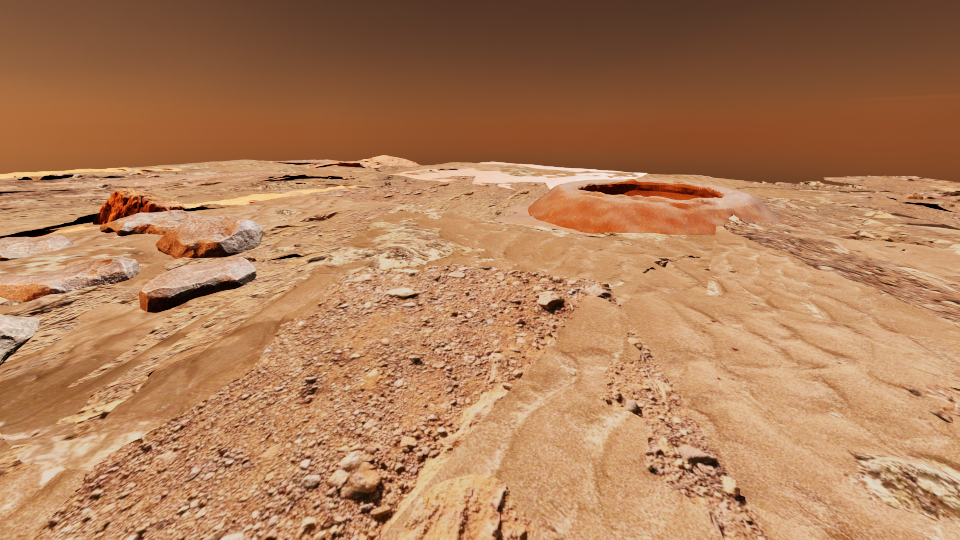bedrock: (724, 195, 959, 323), (342, 373, 523, 539), (3, 284, 145, 363), (0, 170, 202, 221), (118, 283, 248, 358), (398, 474, 535, 539), (150, 174, 354, 199), (260, 207, 381, 244), (424, 189, 489, 217), (736, 181, 884, 190), (495, 188, 542, 216), (161, 255, 235, 270), (370, 173, 419, 188), (243, 254, 303, 264), (599, 390, 627, 410), (654, 255, 700, 267), (902, 202, 954, 211), (183, 204, 234, 211), (425, 181, 464, 190), (929, 185, 959, 196), (378, 165, 406, 171), (275, 160, 325, 163), (903, 194, 923, 199), (400, 200, 416, 204), (951, 198, 959, 202)
rocks: (93, 188, 263, 258), (139, 257, 256, 312), (0, 256, 141, 301), (0, 314, 41, 365), (0, 235, 73, 260)
sand: (0, 204, 959, 539), (0, 159, 842, 199), (0, 214, 175, 285), (175, 191, 391, 229), (789, 232, 959, 276), (266, 238, 296, 253), (0, 297, 27, 313), (946, 390, 959, 406)
soil: (56, 176, 780, 435), (33, 264, 624, 539), (604, 327, 771, 539), (821, 176, 959, 228), (83, 171, 294, 197), (67, 348, 147, 387), (0, 346, 73, 381), (0, 213, 97, 235), (924, 384, 959, 423), (0, 443, 38, 476), (377, 157, 419, 167), (346, 157, 379, 167), (293, 160, 344, 165)
